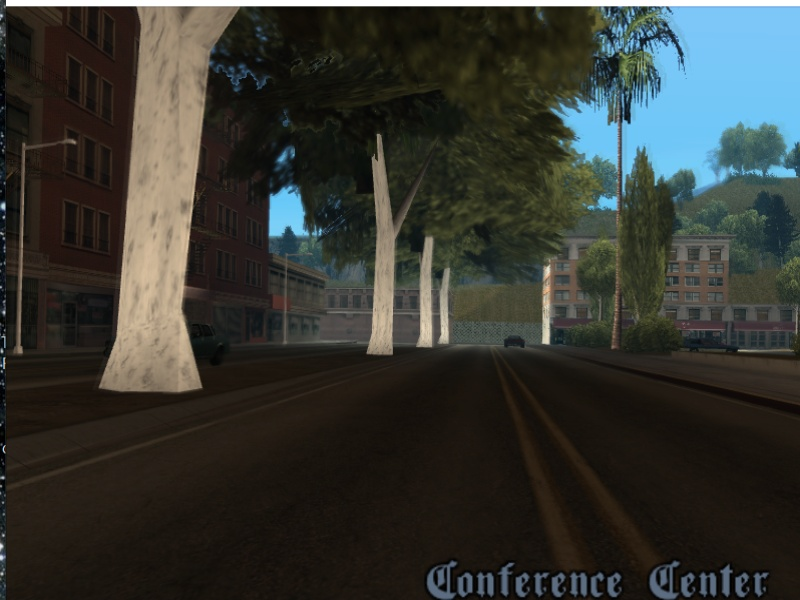pole: (13, 148, 28, 355)
tree: (102, 13, 207, 400), (367, 152, 404, 360), (416, 258, 436, 354), (439, 270, 456, 347)
vehicle: (504, 334, 524, 350)
